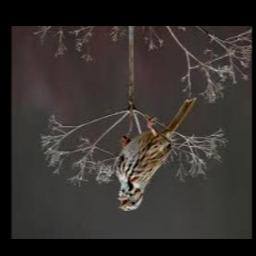Sparrow: (115, 97, 197, 212)
